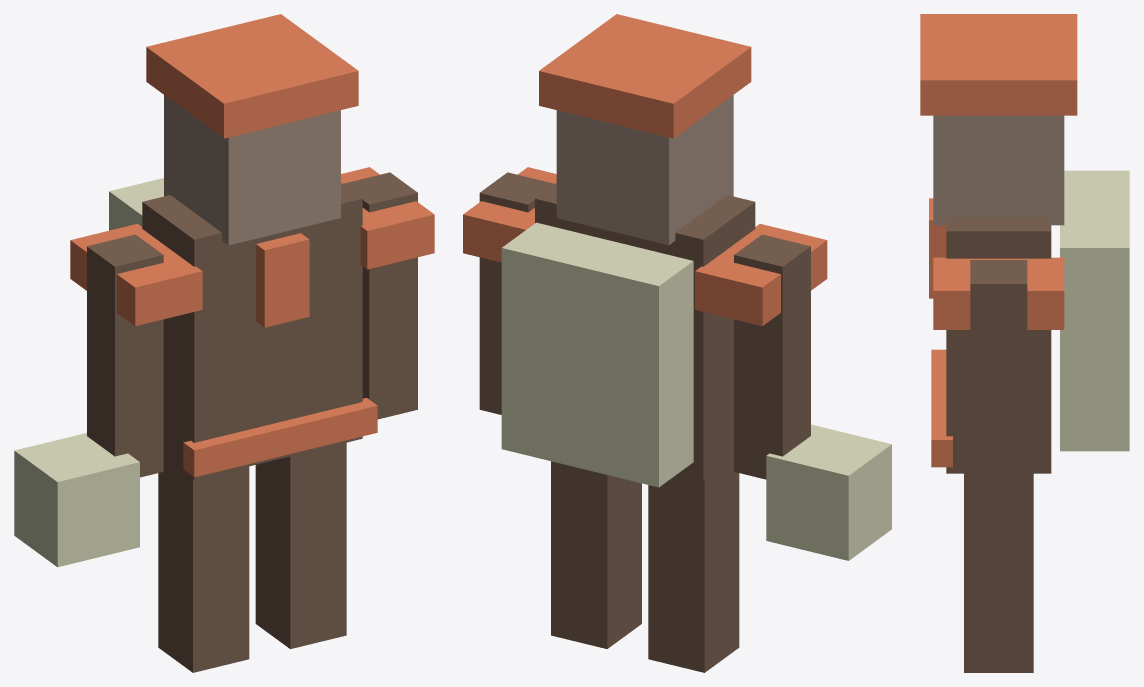
The model's file is 01_astra_voidrill_runner_under_ember.glb.
3 renders of one model, left to right at view 1: azimuth 30°, elevation 25°; view 2: azimuth 150°, elevation 25°; view 3: azimuth 270°, elevation 25°, orthographic.
Parts seen in each view (by area): view 1: Astra Voidrill, Runner under Ember; view 2: Astra Voidrill, Runner under Ember; view 3: Astra Voidrill, Runner under Ember.
Boxes of the visible parts, x1,y1,x2,y2 form: Astra Voidrill, Runner under Ember: [14, 14, 434, 672]; Astra Voidrill, Runner under Ember: [463, 14, 891, 672]; Astra Voidrill, Runner under Ember: [920, 14, 1129, 672].
Size of the model in its own units: 1.09 by 1.63 by 0.5248.
